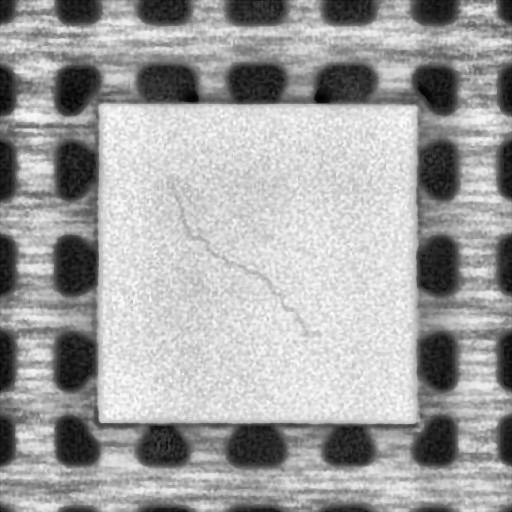DIE_CRACK: (164, 188, 311, 336)
